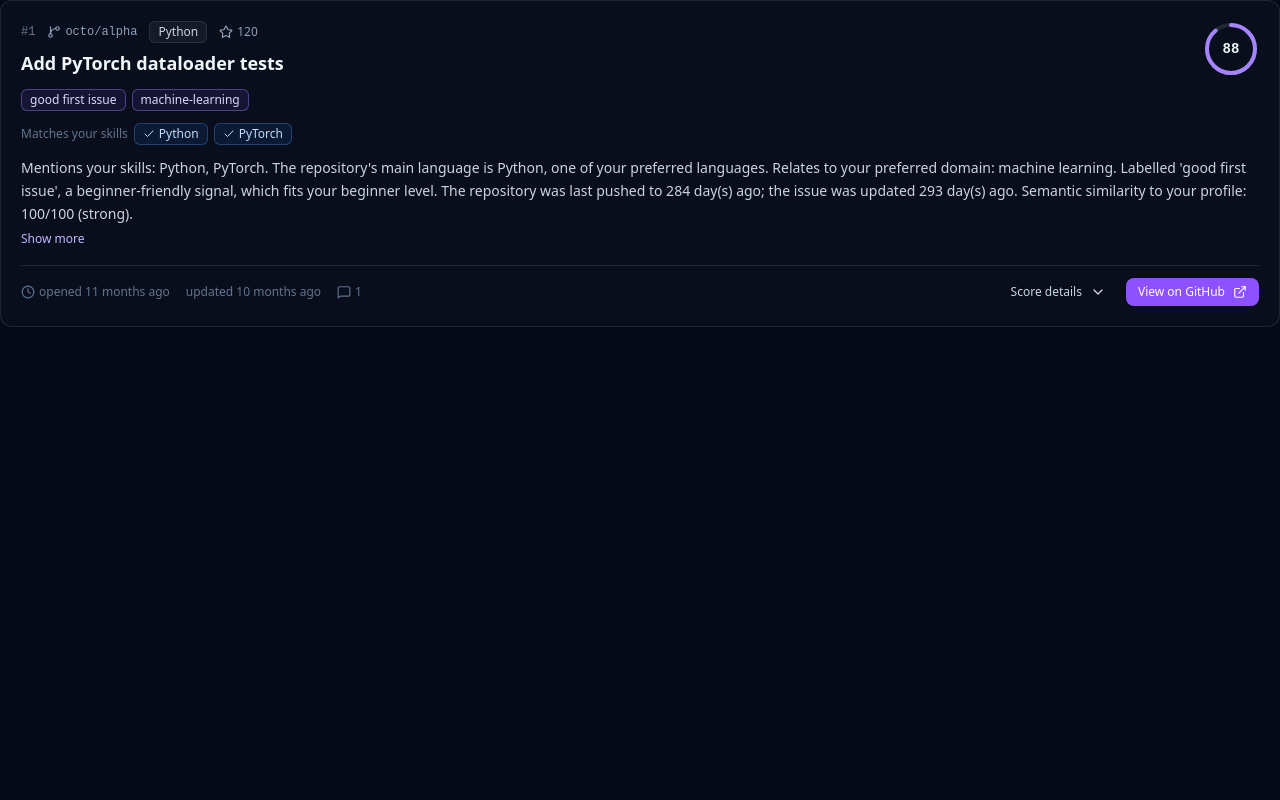
Test: RecommendationCard › toggles the score breakdown with the five weighted components
The width and height of the screenshot is (1280, 800).
Click the button "Score details": [1058, 292] box [999,278,1118,306]
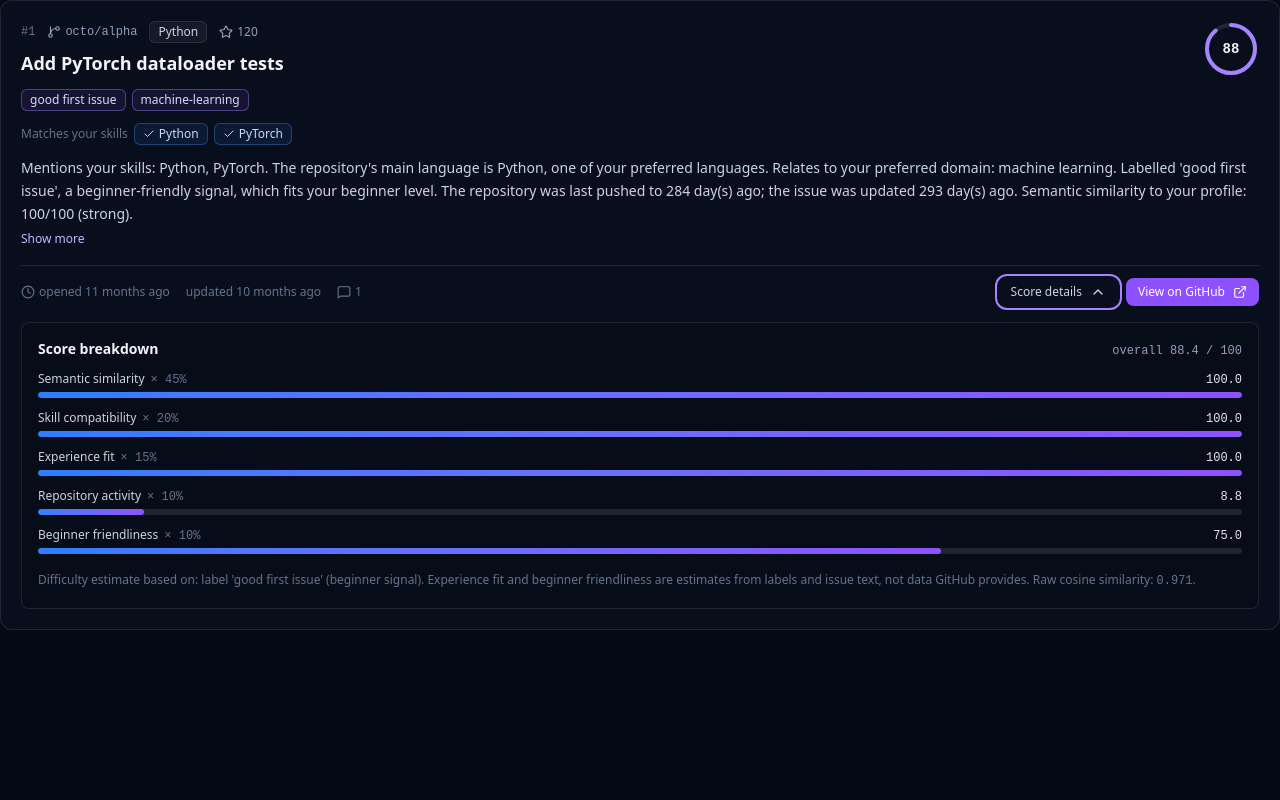
Expected: the button "Score details" is expanded, [999,278,1118,306]
Expected: the text "× 45%" is shown, [150,373,186,387]
Expected: the text "estimates from labels" is shown, [427,571,1156,588]
